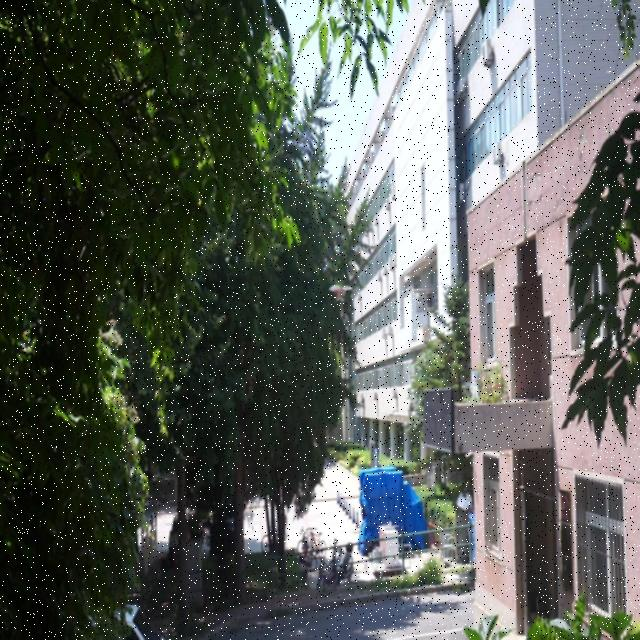UAV: (329, 284, 353, 302)
